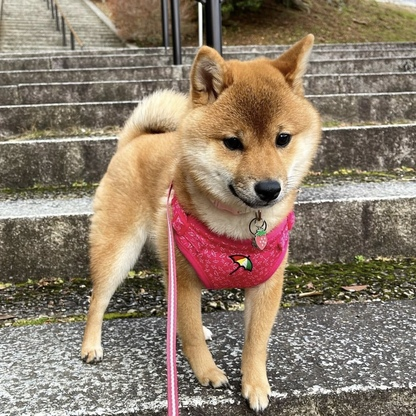shiba: (76, 32, 330, 416)
